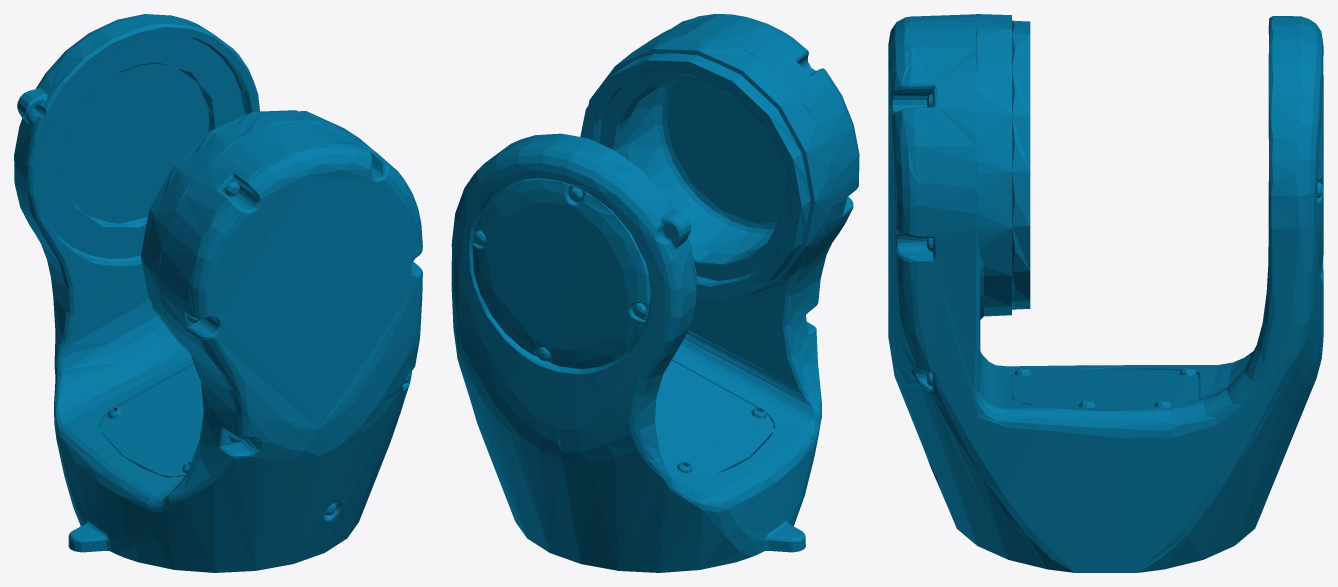
The picture shows the model from 3 angles, left to right: view 1: azimuth 30°, elevation 25°; view 2: azimuth 150°, elevation 25°; view 3: azimuth 270°, elevation 25°; orthographic projection. The views are drawn at different scales.
Parts seen in each view (by area): view 1: link_1; view 2: link_1; view 3: link_1.
Part boxes in pixels (x1,y1,x2,y2): link_1: (14, 14, 422, 572); link_1: (451, 14, 859, 572); link_1: (888, 14, 1323, 572).
Bounding box in the file's own units: 0.1505 × 0.1901 × 0.231.
